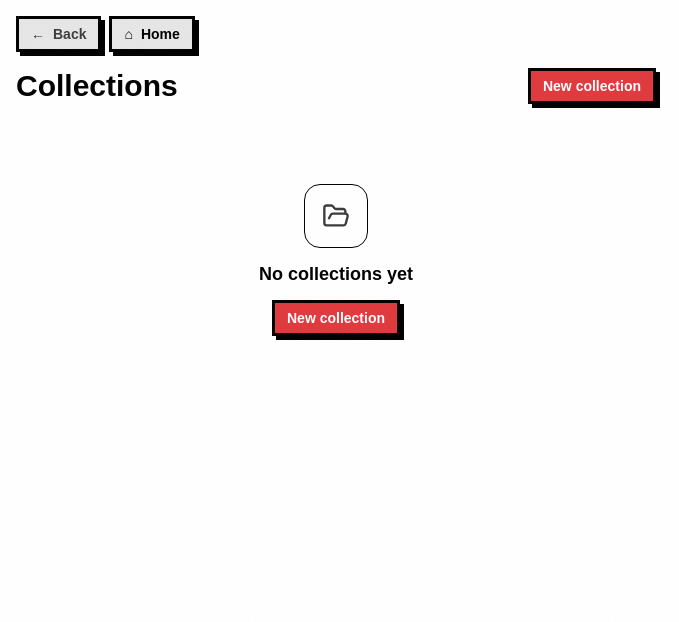
Test: keeps collection creation recoverable when the request fails
Check: the text "No collections yet" is shown, box [259,260,413,288]
Click the 1st button "New collection".
click(592, 86)  # box [528,68,656,104]
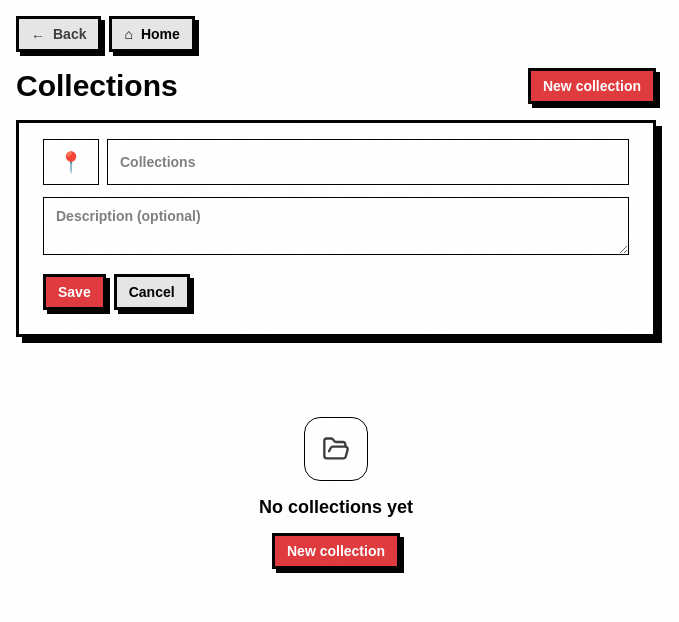
Type "Coffee" into the field named "collection name".
click(368, 162); type("Coffee")  # box [107,139,629,185]
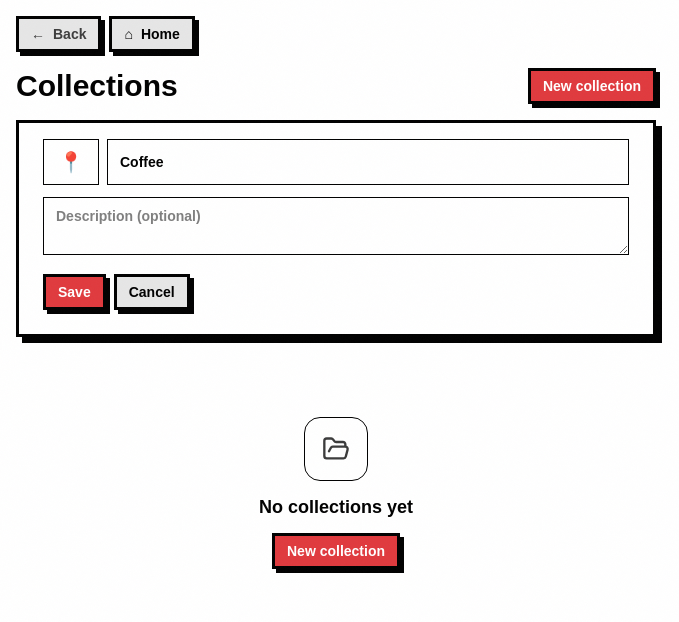
Click the button "Save".
click(74, 292)  # box [43,274,106,310]
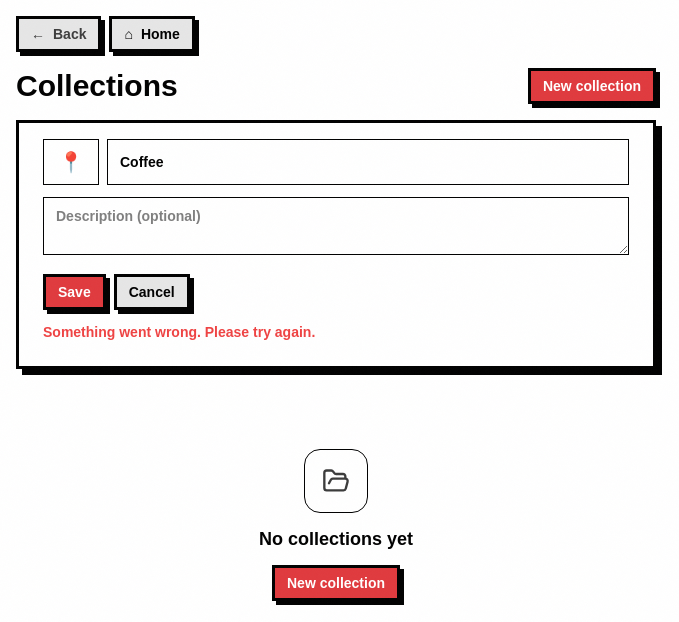
Check: the message shows "Something went wrong", box [43,324,315,340]
